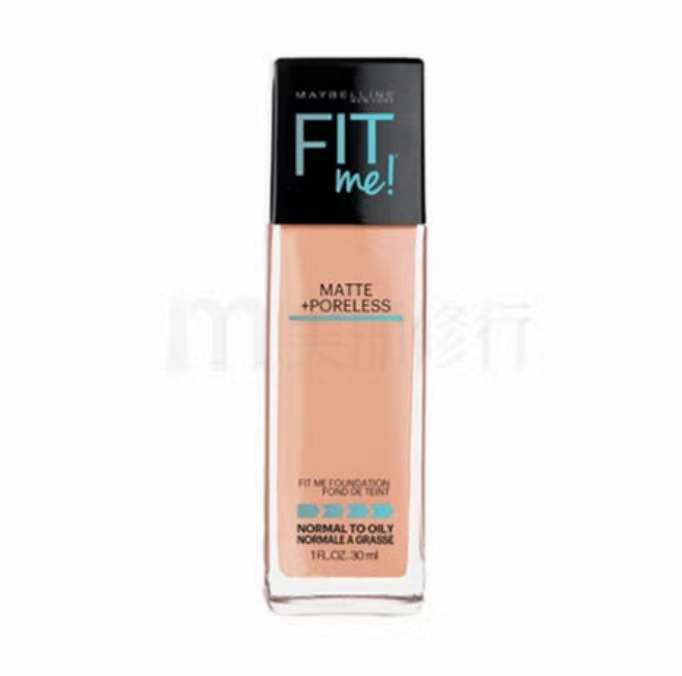cosmetic: (273, 57, 427, 613)
